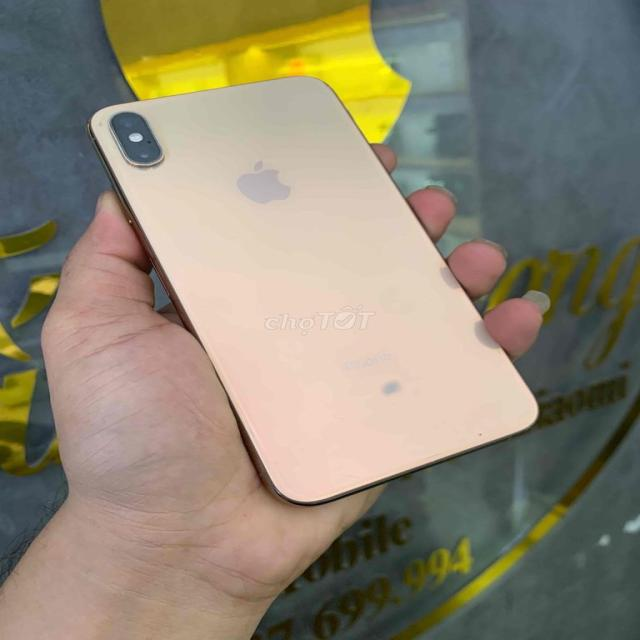gen_x_xs: (89, 76, 537, 504)
